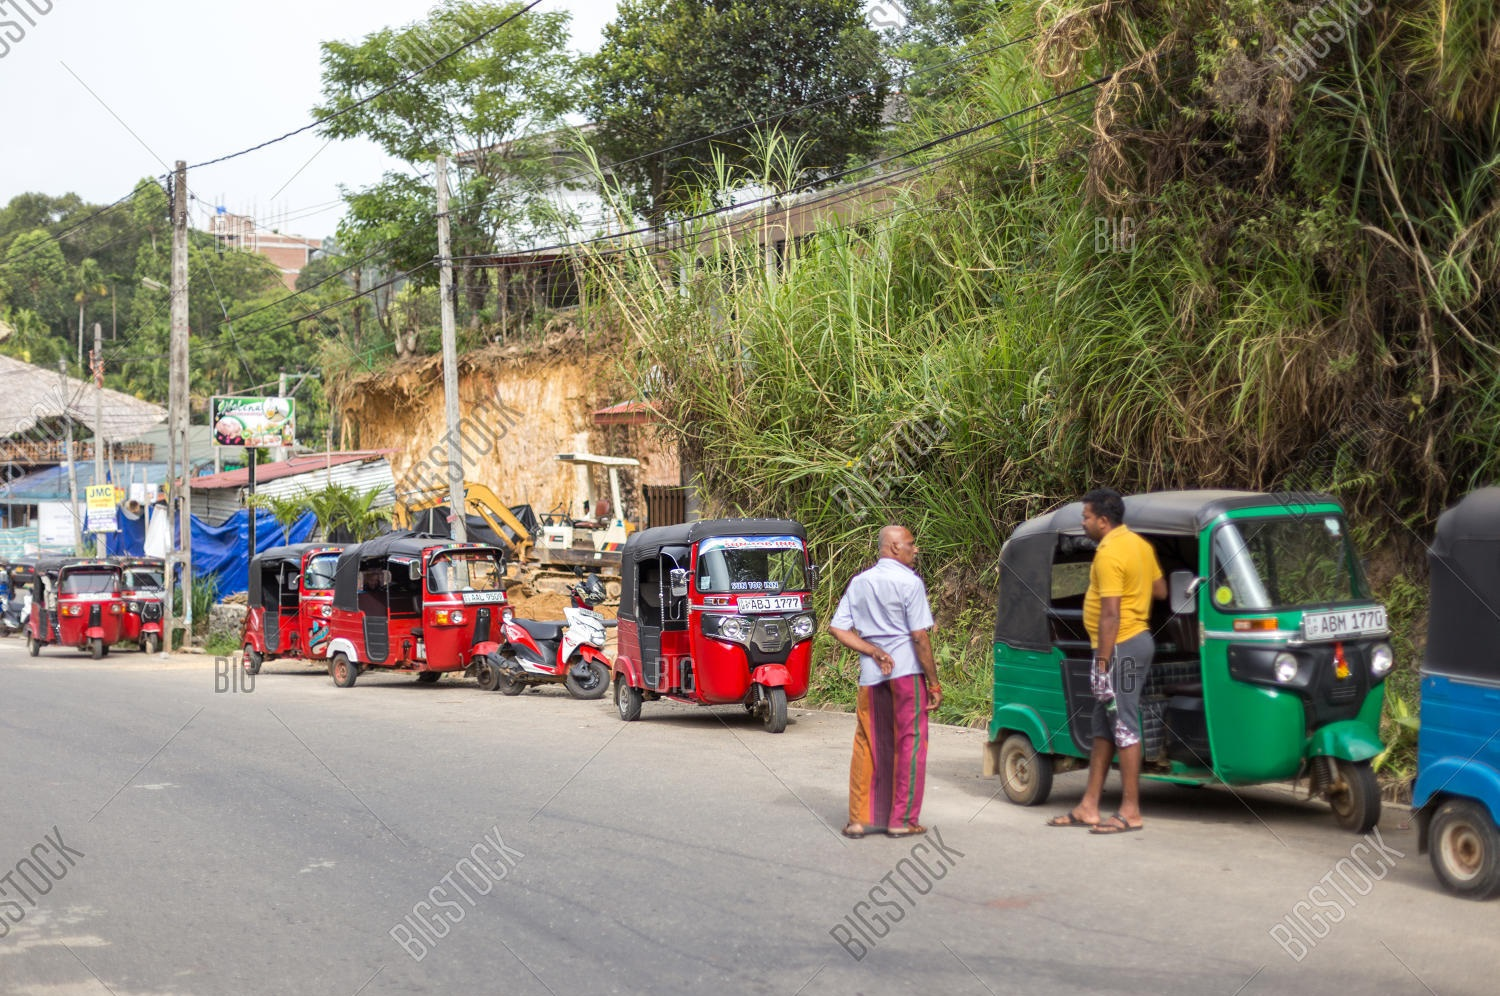tuk tuk: (982, 489, 1392, 841), (613, 508, 822, 743), (1420, 481, 1500, 909), (330, 535, 499, 685), (241, 542, 329, 675), (24, 552, 124, 663), (126, 555, 164, 659)
